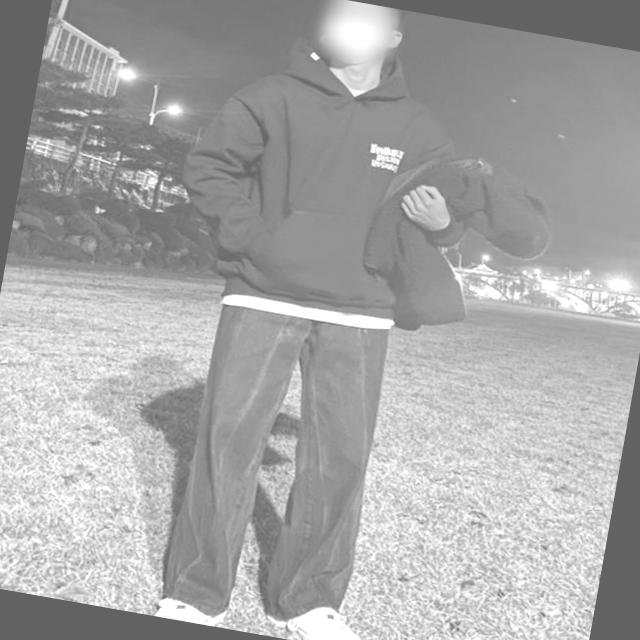hoodies: (170, 28, 483, 336), (156, 294, 394, 640)
